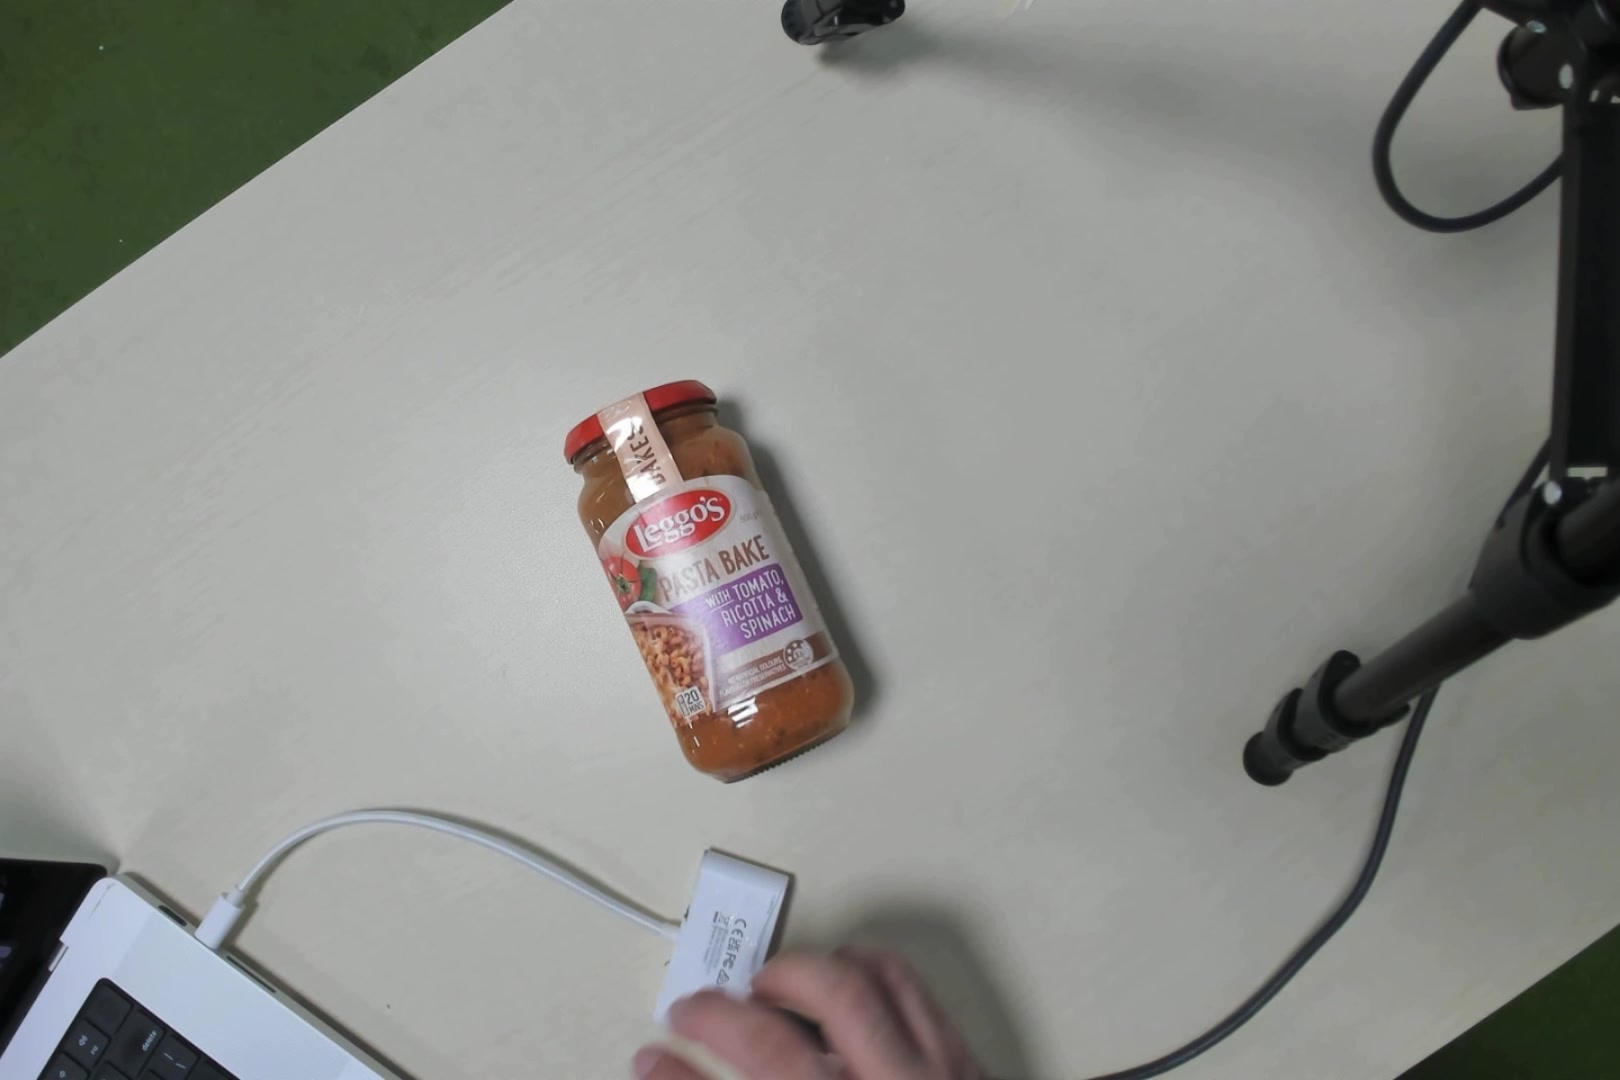Pasta_500-599g_Halal_NonHealthy: (588, 372, 843, 722)
